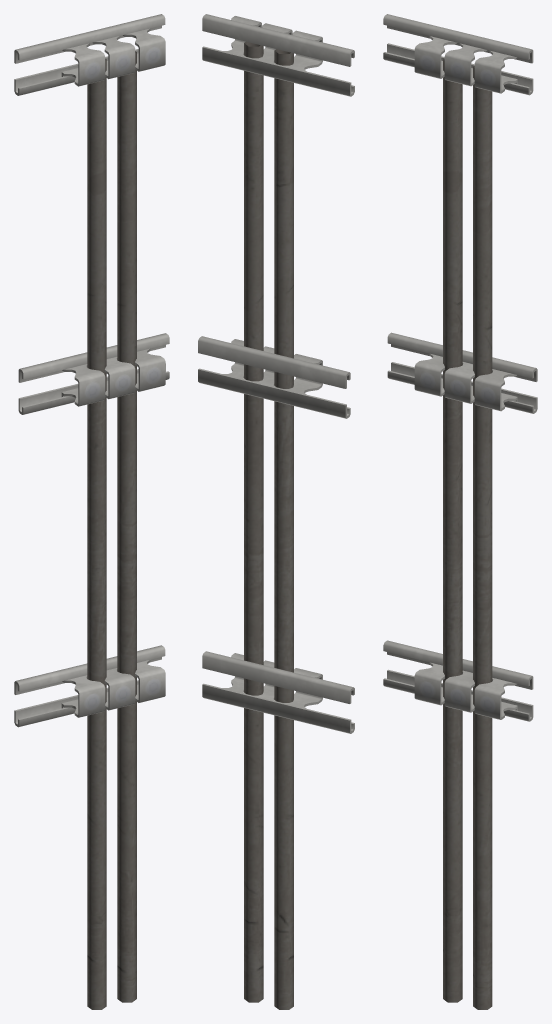
Rendered from cable_cable_double_alt_long.fbx.
3 views of the same model, side by side, from view 1: azimuth 30°, elevation 25°; view 2: azimuth 150°, elevation 25°; view 3: azimuth 330°, elevation 25° (orthographic).
Parts seen in each view (by area): view 1: modular_electric_cables__cable_double_alt_long; view 2: modular_electric_cables__cable_double_alt_long; view 3: modular_electric_cables__cable_double_alt_long.
Boxes of the visible parts, box(x1,y1,x2,y2) form: modular_electric_cables__cable_double_alt_long: box(14, 14, 169, 1009); modular_electric_cables__cable_double_alt_long: box(198, 14, 354, 1009); modular_electric_cables__cable_double_alt_long: box(383, 14, 537, 1009).
Size of the model in its own units: 0.0997 by 0.6141 by 0.0221.
